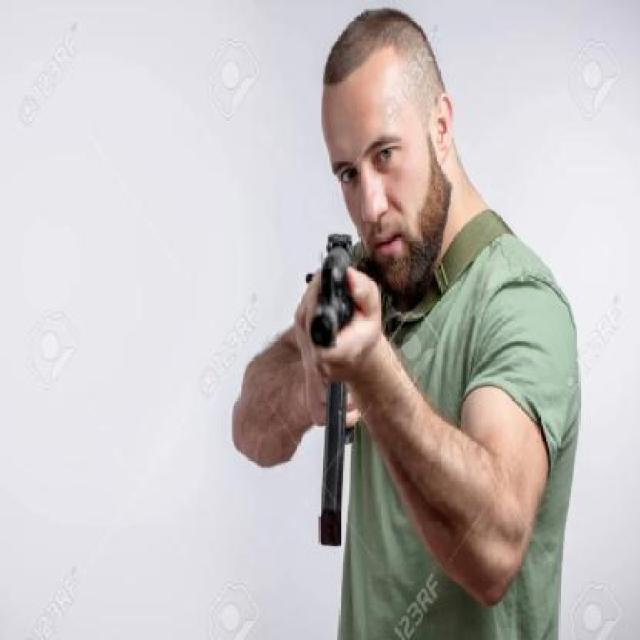weapon: (307, 220, 355, 554)
